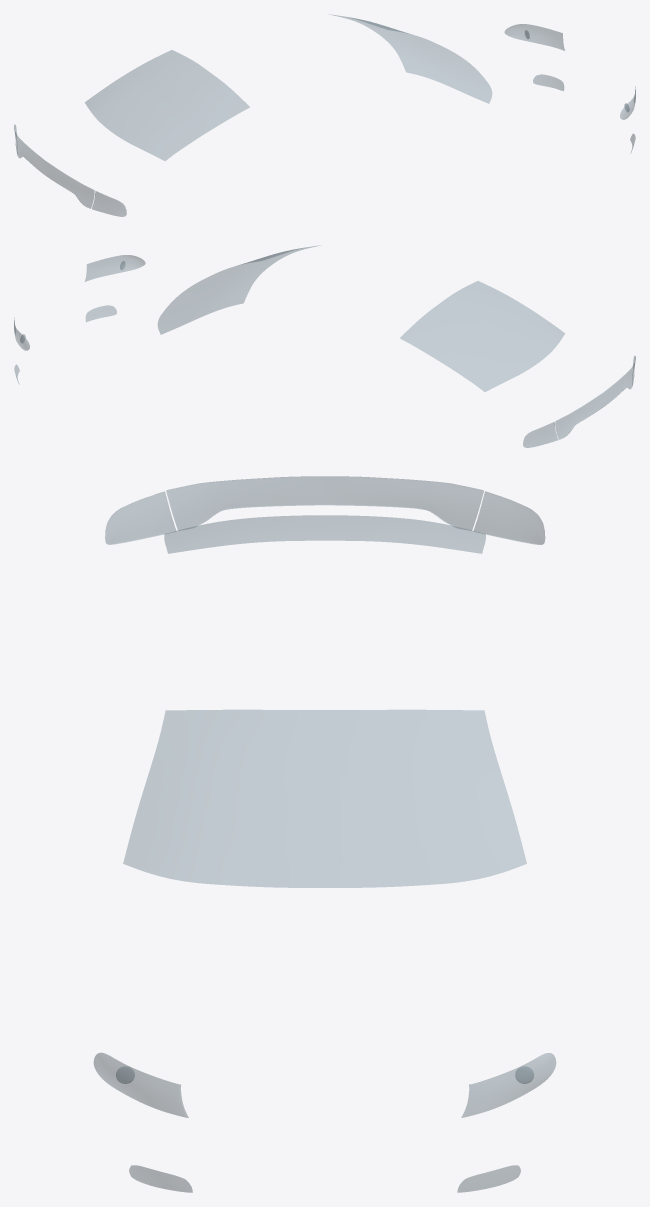
3 views of the same model, one above another, from view 1: azimuth 30°, elevation 25°; view 2: azimuth 150°, elevation 25°; view 3: azimuth 270°, elevation 25° (orthographic). The views are drawn at different scales.
Visible parts, largest first — view 1: SM_DodgeCharger_Glass_Int1; view 2: SM_DodgeCharger_Glass_Int1; view 3: SM_DodgeCharger_Glass_Int1.
Boxes of the visible parts, left/top/right/bottom form: SM_DodgeCharger_Glass_Int1: left=14, top=14, right=635, bottom=216; SM_DodgeCharger_Glass_Int1: left=14, top=245, right=635, bottom=447; SM_DodgeCharger_Glass_Int1: left=94, top=476, right=555, bottom=1192.
Bounding box in the file's own units: 4.75 × 1.13 × 1.72.
